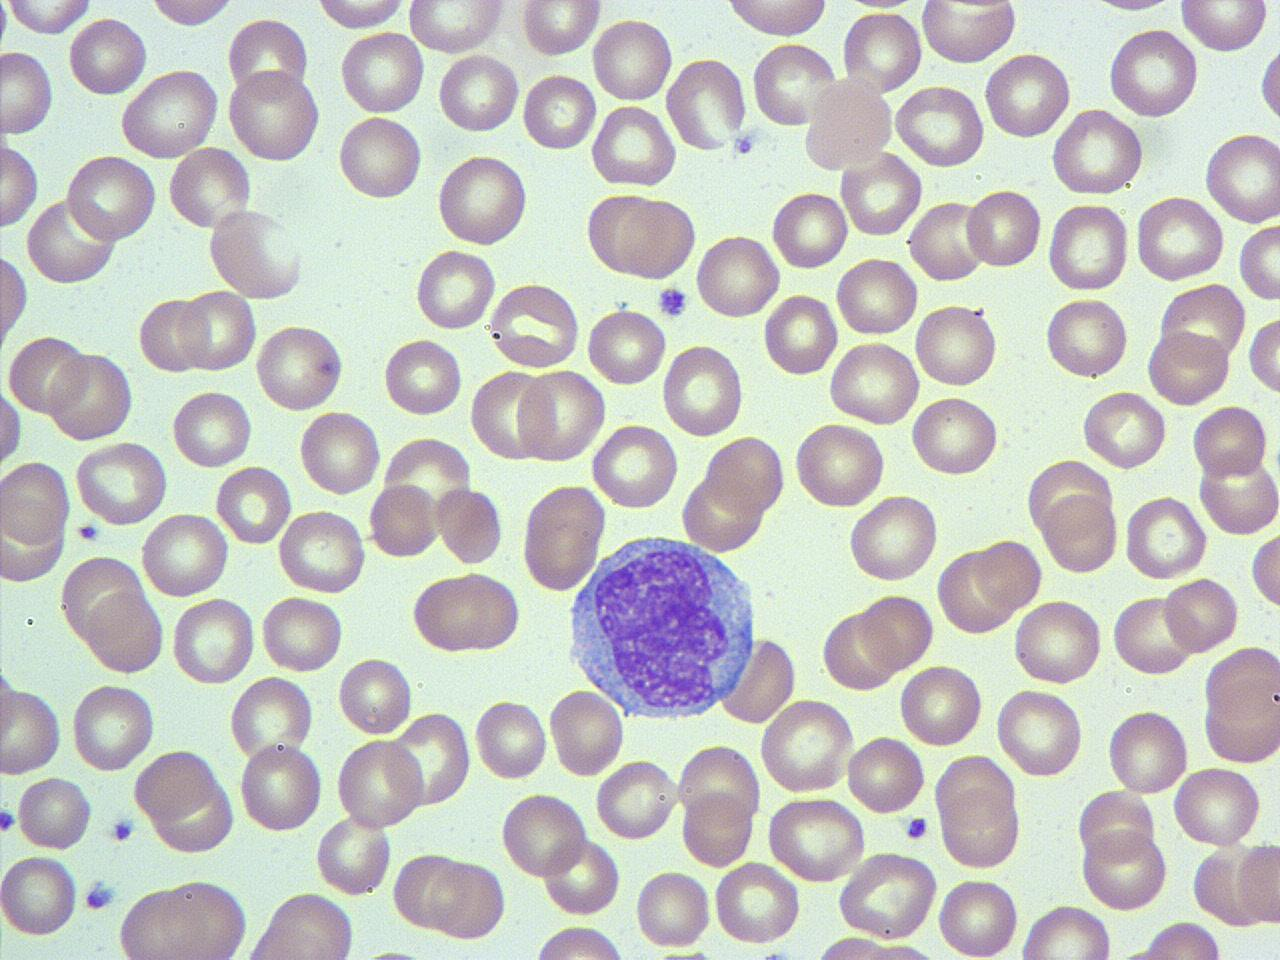Platelets: (81, 878, 119, 914), (656, 284, 690, 322), (366, 942, 426, 960), (108, 814, 136, 846), (902, 814, 930, 842), (756, 944, 795, 959), (0, 806, 18, 835)
RBC: (115, 876, 250, 959), (118, 66, 223, 160), (410, 570, 524, 656), (224, 67, 323, 166), (208, 204, 308, 302), (759, 694, 855, 795), (520, 481, 605, 594), (434, 150, 530, 250), (836, 852, 940, 940), (1105, 25, 1201, 120), (846, 490, 942, 585), (514, 367, 608, 465), (1048, 104, 1146, 197), (765, 795, 867, 883), (63, 151, 159, 245), (790, 421, 890, 510), (1010, 596, 1105, 690), (602, 192, 698, 283), (497, 789, 591, 882), (68, 678, 158, 774), (253, 321, 346, 414), (993, 686, 1085, 779), (826, 337, 922, 428), (664, 54, 749, 156), (486, 281, 583, 370), (236, 738, 324, 836), (1135, 192, 1227, 284), (334, 737, 425, 830), (692, 230, 783, 324), (73, 440, 169, 527), (169, 592, 257, 689), (590, 422, 682, 512), (275, 505, 368, 596), (227, 672, 316, 765), (46, 348, 135, 443), (1169, 762, 1265, 850), (336, 111, 425, 204), (908, 392, 1004, 479), (660, 340, 746, 437), (25, 196, 116, 286), (982, 50, 1072, 141), (1155, 280, 1247, 370), (912, 301, 1004, 390), (296, 406, 384, 500), (749, 39, 839, 130), (337, 27, 426, 118), (140, 510, 231, 600), (166, 141, 254, 234), (1041, 294, 1133, 382), (838, 147, 924, 240), (893, 83, 986, 169), (1045, 200, 1131, 293), (588, 102, 679, 189), (1106, 706, 1192, 798), (60, 552, 144, 646), (242, 890, 356, 960), (393, 707, 471, 809), (468, 366, 548, 464), (677, 742, 763, 834), (590, 13, 675, 105), (718, 632, 799, 728), (896, 662, 984, 750), (840, 6, 924, 98), (1123, 491, 1209, 580), (225, 13, 312, 100), (934, 873, 1022, 960), (1202, 128, 1280, 226), (547, 686, 627, 781), (712, 861, 800, 946), (414, 244, 498, 334), (594, 757, 680, 843), (962, 184, 1045, 272), (436, 50, 522, 136), (174, 286, 258, 374), (845, 731, 928, 819), (66, 13, 150, 99), (1109, 593, 1193, 678), (833, 254, 918, 338), (381, 334, 465, 419), (1080, 828, 1168, 910), (1080, 388, 1168, 470), (1197, 452, 1279, 538), (1, 851, 80, 941), (938, 788, 1022, 871), (703, 432, 786, 516), (6, 332, 89, 416), (1145, 326, 1231, 407), (314, 812, 395, 898), (336, 652, 415, 740), (472, 694, 550, 783), (768, 187, 850, 271), (258, 593, 343, 675), (906, 198, 986, 284), (87, 588, 165, 676), (762, 290, 840, 379), (214, 462, 293, 548), (1041, 491, 1121, 577), (1202, 644, 1280, 732), (169, 388, 254, 468), (634, 866, 713, 952), (585, 306, 666, 387), (542, 834, 622, 918), (858, 590, 938, 672), (0, 457, 72, 548), (430, 856, 506, 942), (132, 748, 218, 824), (918, 0, 1018, 65), (1162, 574, 1240, 656), (520, 70, 596, 153), (1190, 402, 1270, 481), (13, 774, 94, 852), (1202, 686, 1278, 766), (1, 682, 65, 776), (680, 787, 754, 867), (366, 479, 438, 561), (435, 484, 506, 566), (404, 0, 509, 54), (137, 294, 205, 376), (1017, 902, 1113, 959), (1175, 0, 1273, 54), (0, 47, 57, 139), (972, 535, 1042, 610), (518, 1, 602, 58), (720, 0, 831, 39), (1231, 840, 1279, 928), (528, 922, 632, 960), (0, 141, 42, 233), (1236, 219, 1280, 306), (1133, 920, 1227, 959), (0, 0, 98, 37), (0, 242, 30, 356), (313, 0, 411, 32), (1245, 309, 1279, 400), (814, 934, 933, 960), (144, 0, 236, 31), (1255, 33, 1279, 135), (1250, 534, 1280, 612), (0, 384, 25, 470)
WBC: (562, 528, 764, 722)
